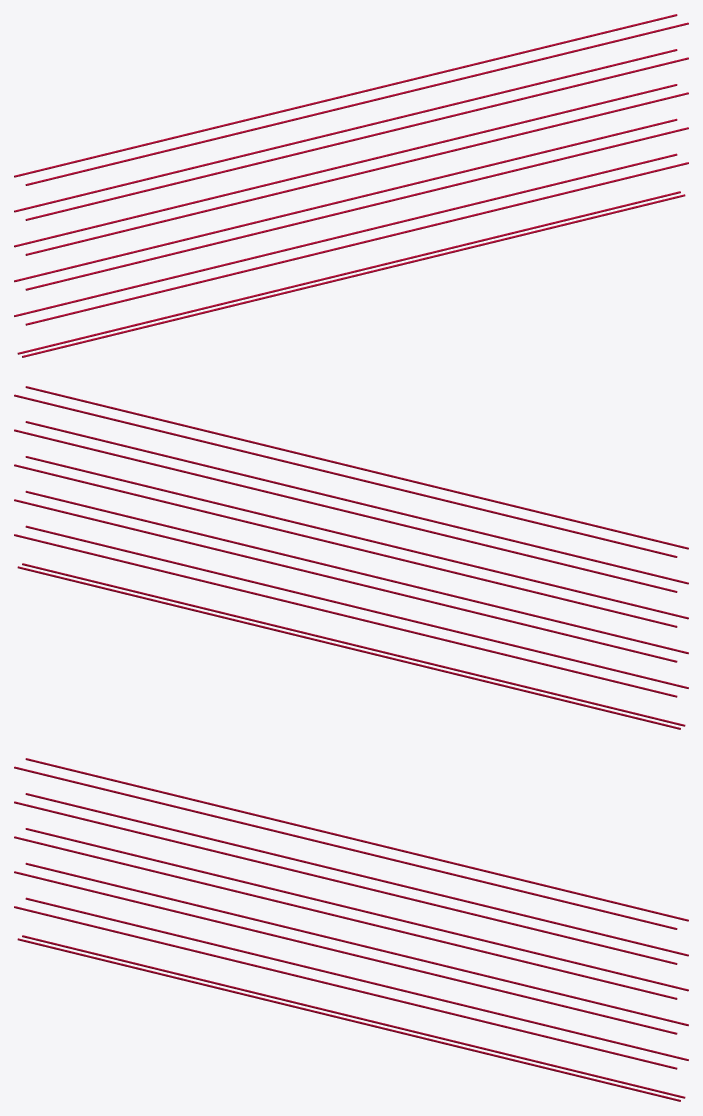
The model's file is 04_02_07_Bewehrung_WS_F.gltf.
The picture shows the model from 3 angles, top to bottom: view 1: azimuth 30°, elevation 25°; view 2: azimuth 150°, elevation 25°; view 3: azimuth 330°, elevation 25°; orthographic projection.
Parts seen in each view (by area): view 1: F; view 2: F; view 3: F.
Boxes of the visible parts, box(x1,y1,x2,y2) form: F: box(14, 14, 688, 357); F: box(14, 386, 688, 729); F: box(14, 758, 688, 1101).
Bounding box in the file's own units: 298 × 75.8 × 9.8.
